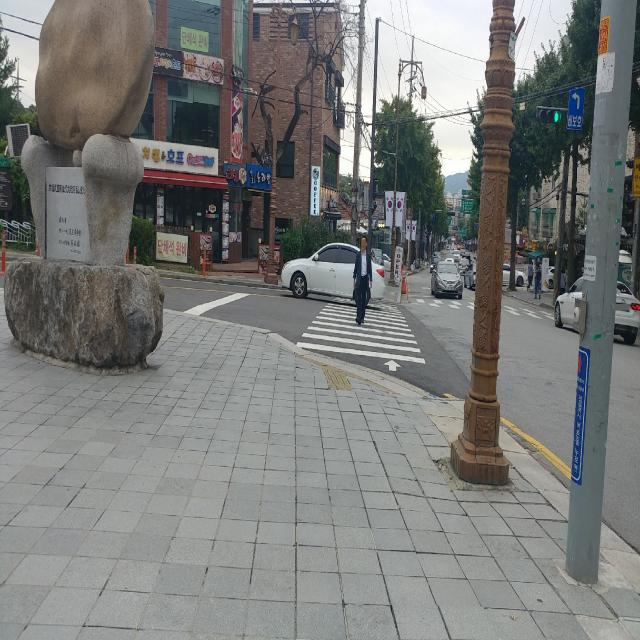횡단보도: (296, 297, 426, 372), (508, 303, 543, 318), (432, 300, 471, 313)
